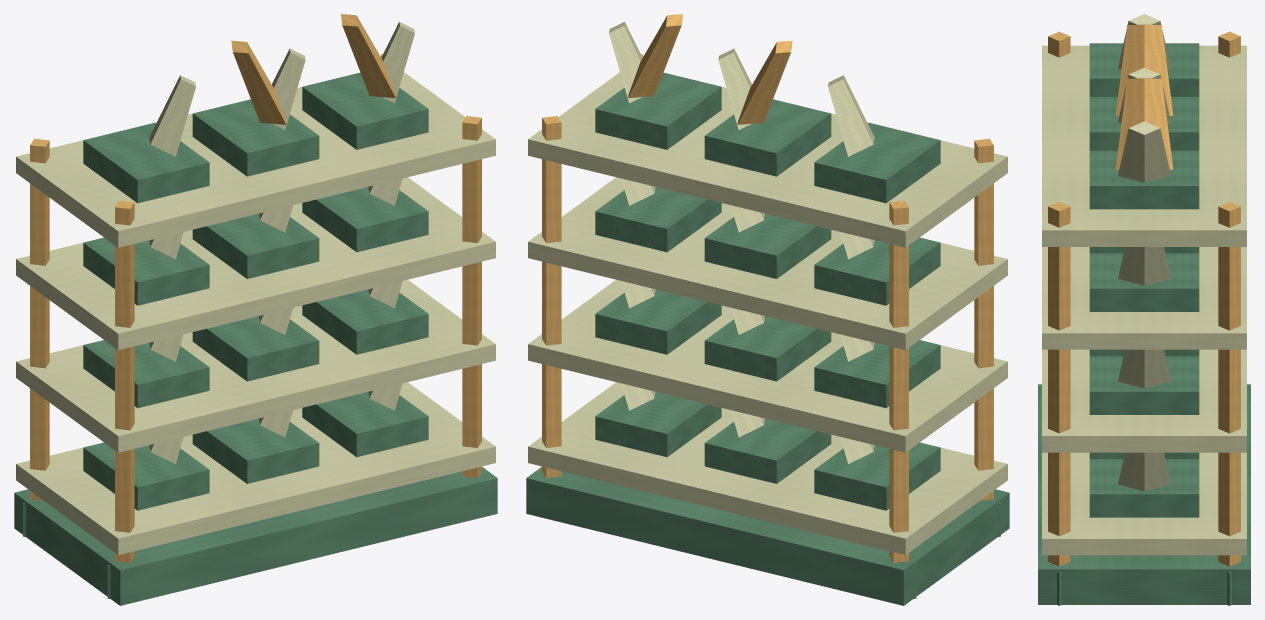
File: atlas100-s005-a01.lod2.glb
3 views of the same model, side by side, from view 1: azimuth 30°, elevation 25°; view 2: azimuth 150°, elevation 25°; view 3: azimuth 270°, elevation 25° (orthographic).
Parts seen in each view (by area): view 1: atlas100-s005-a01:part-000, atlas100-s005-a01:part-041, atlas100-s005-a01:part-021, atlas100-s005-a01:part-031, atlas100-s005-a01:part-011, atlas100-s005-a01:part-042, atlas100-s005-a01:part-045, atlas100-s005-a01:part-048, atlas100-s005-a01:part-005, atlas100-s005-a01:part-009, atlas100-s005-a01:part-015, atlas100-s005-a01:part-025 (+13 smaller); view 2: atlas100-s005-a01:part-000, atlas100-s005-a01:part-041, atlas100-s005-a01:part-021, atlas100-s005-a01:part-031, atlas100-s005-a01:part-011, atlas100-s005-a01:part-042, atlas100-s005-a01:part-045, atlas100-s005-a01:part-048, atlas100-s005-a01:part-003, atlas100-s005-a01:part-007, atlas100-s005-a01:part-015, atlas100-s005-a01:part-025 (+13 smaller); view 3: atlas100-s005-a01:part-041, atlas100-s005-a01:part-000, atlas100-s005-a01:part-011, atlas100-s005-a01:part-021, atlas100-s005-a01:part-031, atlas100-s005-a01:part-007, atlas100-s005-a01:part-009, atlas100-s005-a01:part-018, atlas100-s005-a01:part-028, atlas100-s005-a01:part-038, atlas100-s005-a01:part-048, atlas100-s005-a01:part-042 (+14 smaller).
Boxes of the visible parts, <box> form: atlas100-s005-a01:part-000: <box>14,467,497,605</box>; atlas100-s005-a01:part-041: <box>16,72,495,247</box>; atlas100-s005-a01:part-021: <box>16,279,495,452</box>; atlas100-s005-a01:part-031: <box>16,177,495,350</box>; atlas100-s005-a01:part-011: <box>16,382,495,554</box>; atlas100-s005-a01:part-042: <box>83,122,209,203</box>; atlas100-s005-a01:part-045: <box>192,99,319,176</box>; atlas100-s005-a01:part-048: <box>302,72,428,149</box>; atlas100-s005-a01:part-005: <box>115,200,134,562</box>; atlas100-s005-a01:part-009: <box>462,116,481,478</box>; atlas100-s005-a01:part-015: <box>192,418,319,483</box>; atlas100-s005-a01:part-025: <box>192,316,319,381</box>; atlas100-s005-a01:part-000: <box>526,467,1009,605</box>; atlas100-s005-a01:part-041: <box>528,72,1007,247</box>; atlas100-s005-a01:part-021: <box>528,279,1007,452</box>; atlas100-s005-a01:part-031: <box>528,177,1007,350</box>; atlas100-s005-a01:part-011: <box>528,382,1007,554</box>; atlas100-s005-a01:part-042: <box>814,122,940,203</box>; atlas100-s005-a01:part-045: <box>704,99,831,176</box>; atlas100-s005-a01:part-048: <box>595,72,721,149</box>; atlas100-s005-a01:part-003: <box>889,200,908,562</box>; atlas100-s005-a01:part-007: <box>542,116,561,478</box>; atlas100-s005-a01:part-015: <box>704,418,831,483</box>; atlas100-s005-a01:part-025: <box>704,316,831,381</box>; atlas100-s005-a01:part-041: <box>1042,45,1246,246</box>; atlas100-s005-a01:part-000: <box>1038,384,1250,604</box>; atlas100-s005-a01:part-011: <box>1042,452,1246,555</box>; atlas100-s005-a01:part-021: <box>1042,349,1246,452</box>; atlas100-s005-a01:part-031: <box>1042,247,1246,349</box>; atlas100-s005-a01:part-007: <box>1218,201,1240,566</box>; atlas100-s005-a01:part-009: <box>1048,201,1070,566</box>; atlas100-s005-a01:part-018: <box>1089,459,1199,517</box>; atlas100-s005-a01:part-028: <box>1089,356,1199,414</box>; atlas100-s005-a01:part-038: <box>1089,253,1199,311</box>; atlas100-s005-a01:part-048: <box>1089,150,1199,209</box>; atlas100-s005-a01:part-042: <box>1089,43,1199,96</box>.
Size of the model in its own units: 2.91 by 3.51 by 1.4.
Materials: 3 (3 with a texture image).
